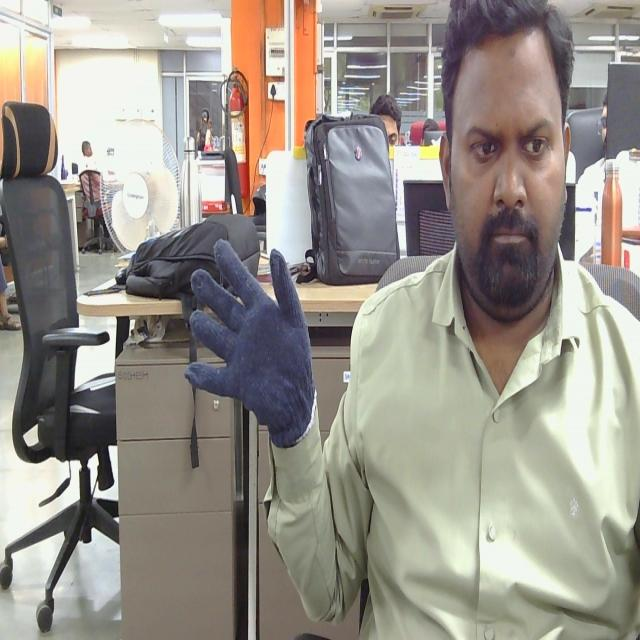Gloves-Detection: (182, 230, 319, 444)
